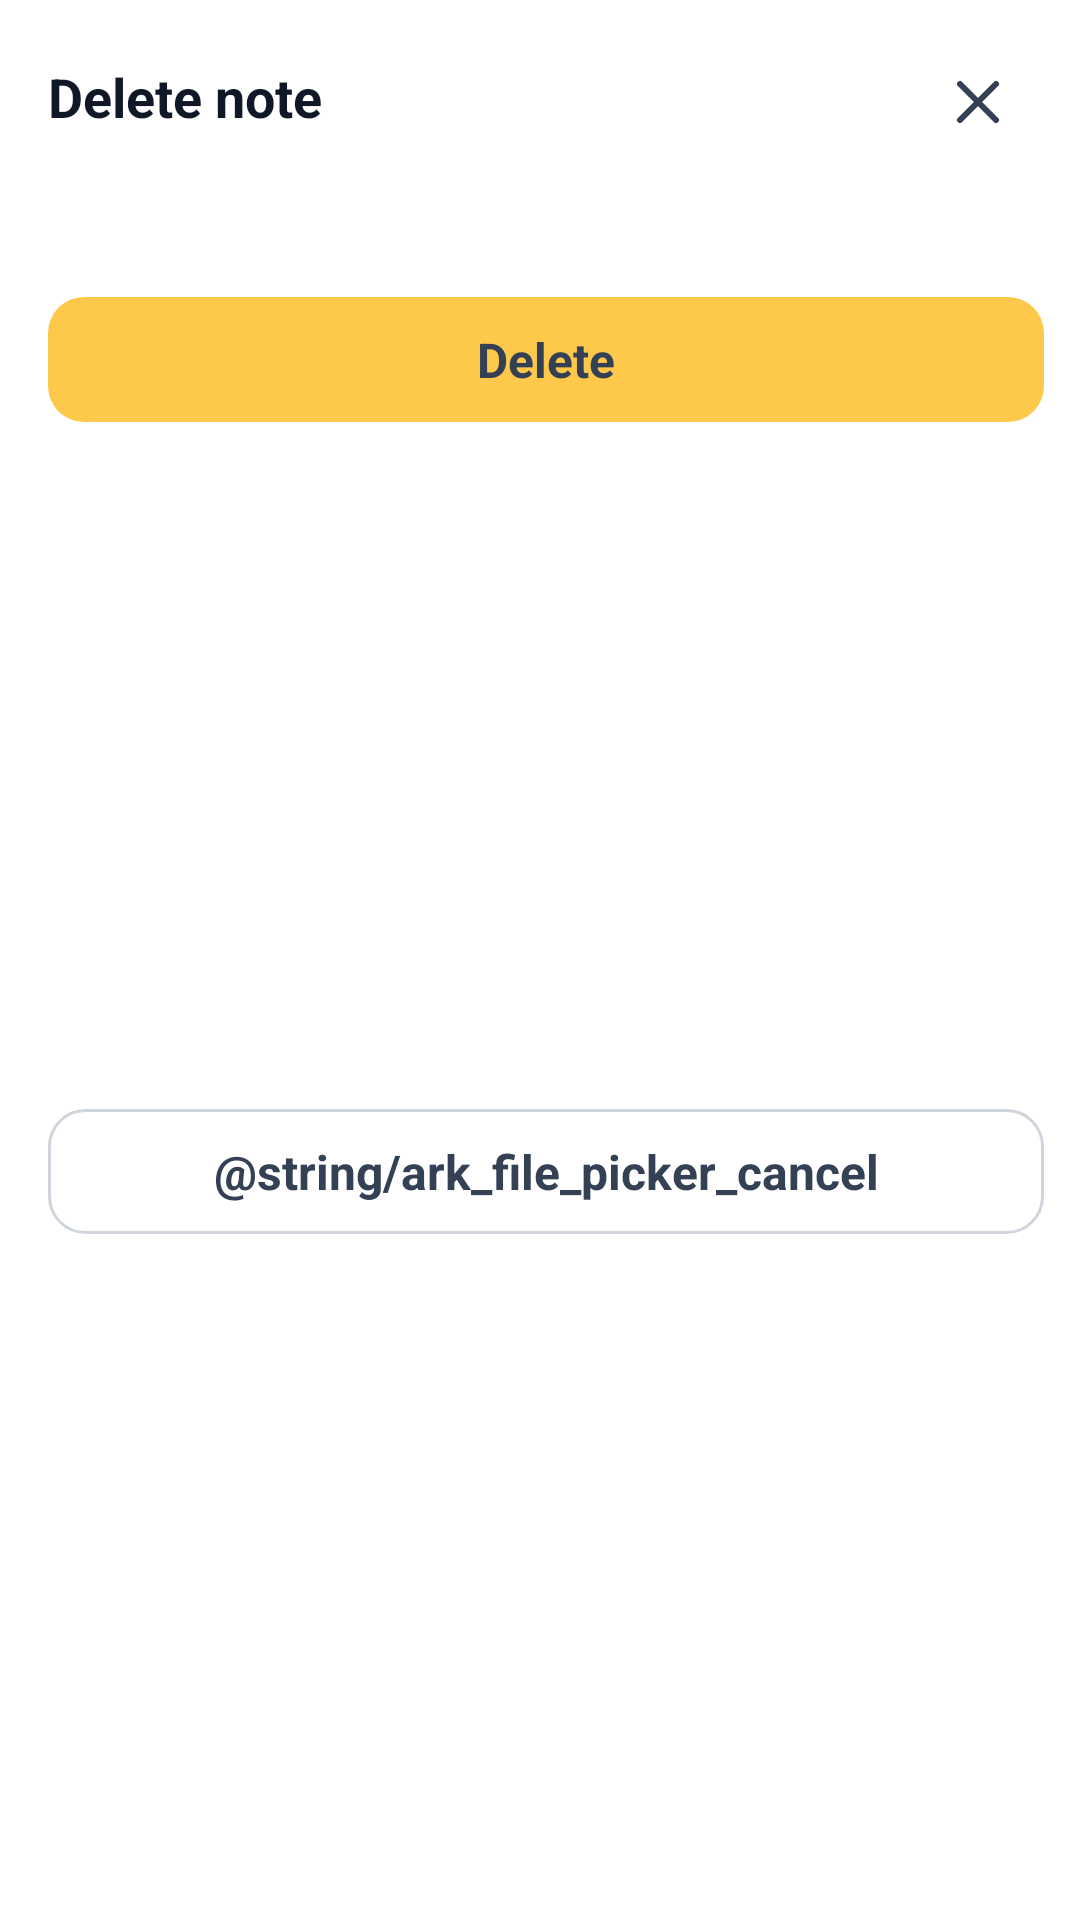

Locate icon controls on the screen. Image size 1080w x 1920h, boxes as region(x1, y1, x2, y2).
close: region(957, 81, 999, 123)
